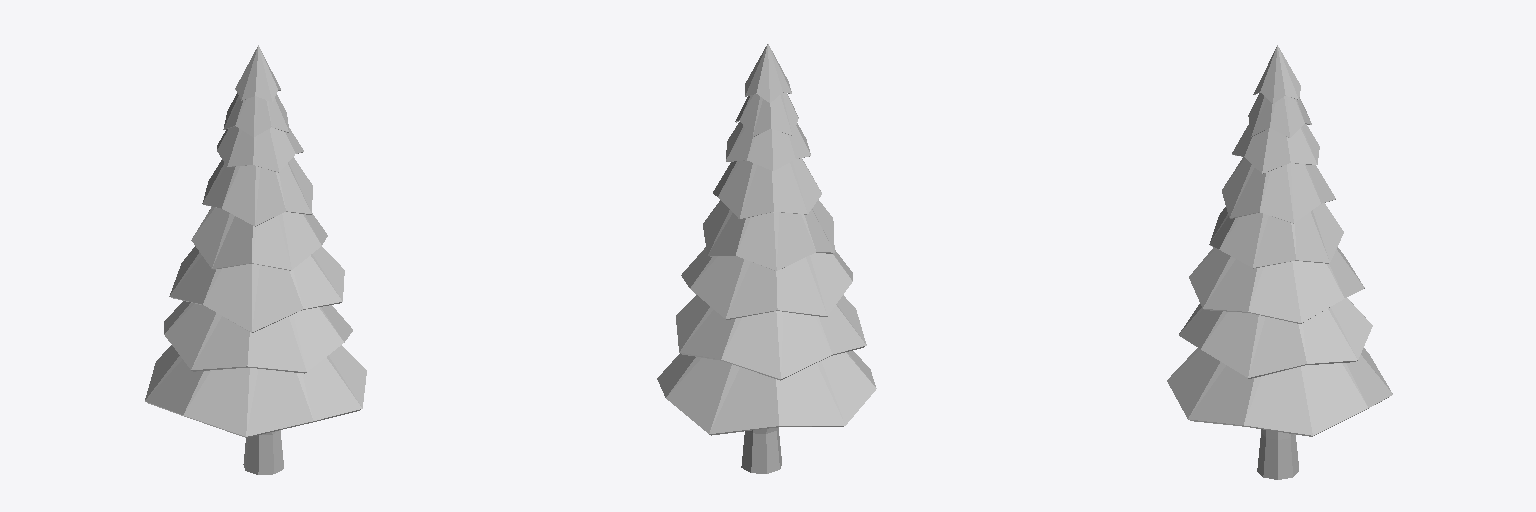
The model's file is LP Med Pine Tree ST1.obj.
3 views of the same model, side by side, from view 1: azimuth 30°, elevation 25°; view 2: azimuth 150°, elevation 25°; view 3: azimuth 270°, elevation 25° (orthographic).
Visible parts, largest first — view 1: P_T_M_trunk_Cylinder; view 2: P_T_M_trunk_Cylinder; view 3: P_T_M_trunk_Cylinder.
Boxes of the visible parts, <box> form: P_T_M_trunk_Cylinder: <box>145,45,366,474</box>; P_T_M_trunk_Cylinder: <box>657,44,876,473</box>; P_T_M_trunk_Cylinder: <box>1167,45,1392,479</box>.
Size of the model in its own units: 5.22 by 11.17 by 5.42.